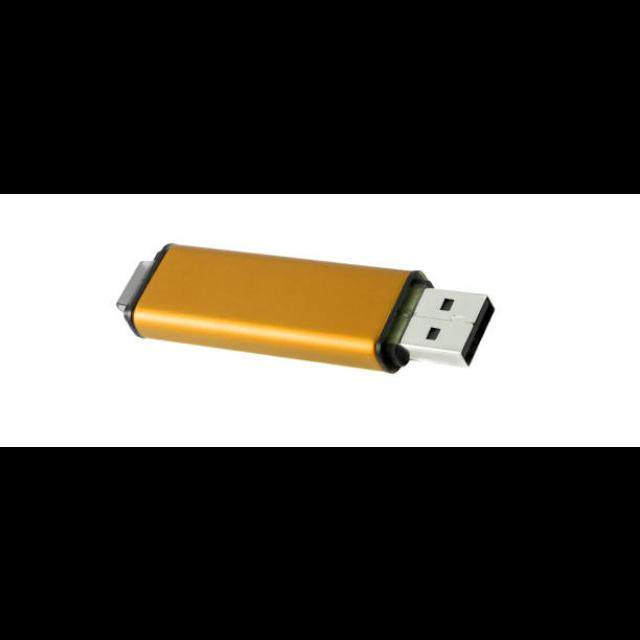USB-Flash-Drive: (122, 243, 495, 373)
